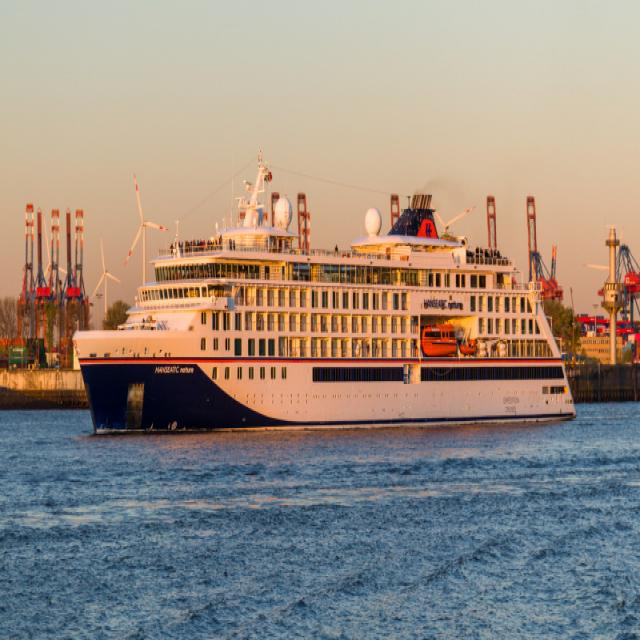cruises: (71, 147, 581, 442)
